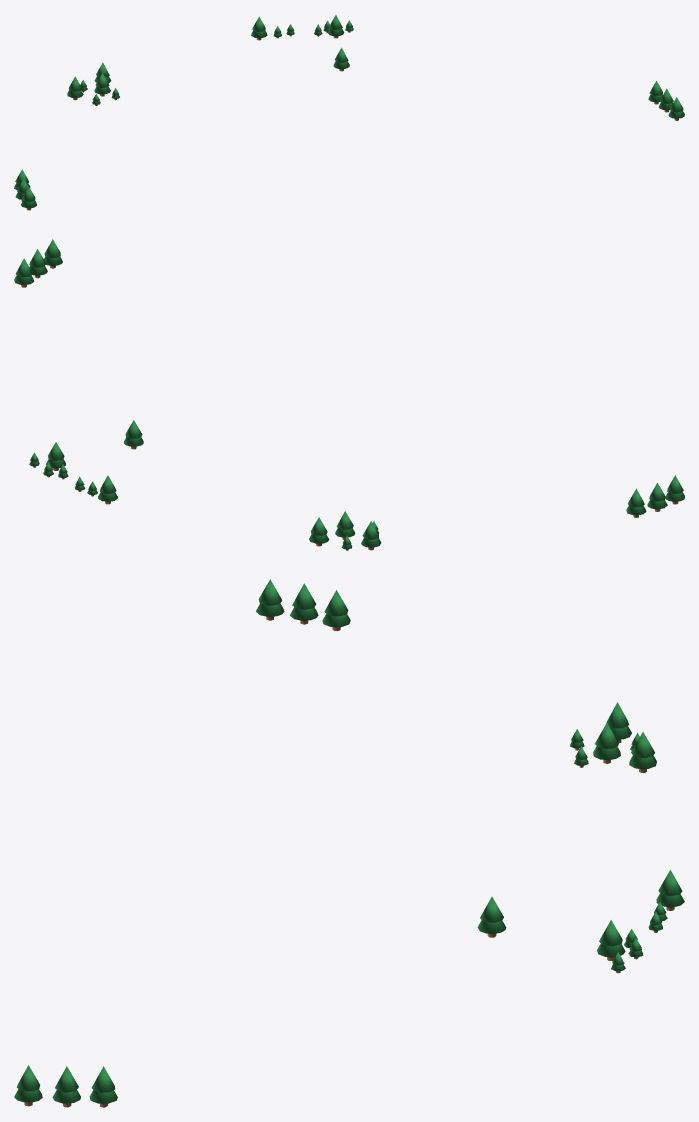
3 views of the same model, one above another, from view 1: azimuth 30°, elevation 25°; view 2: azimuth 150°, elevation 25°; view 3: azimuth 270°, elevation 25° (orthographic). The views are drawn at different scales.
Parts seen in each view (by area): view 1: 球024; view 2: 球024; view 3: 球024.
Part boxes in pixels (bbox=[...]): 球024: bbox=[14, 15, 684, 208]; 球024: bbox=[14, 239, 684, 549]; 球024: bbox=[14, 579, 684, 1103].
Size of the model in its own units: 91.84 by 3.49 by 52.19.
